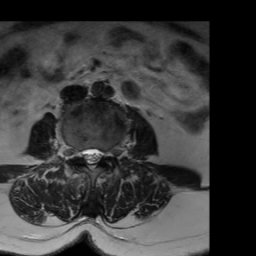CCS_normal: (87, 139, 94, 175)
LFS_stenosis: (102, 142, 110, 164)
LLS_normal: (94, 141, 102, 168)
RFS_normal: (72, 139, 80, 164)
RLS_normal: (80, 142, 87, 166)
